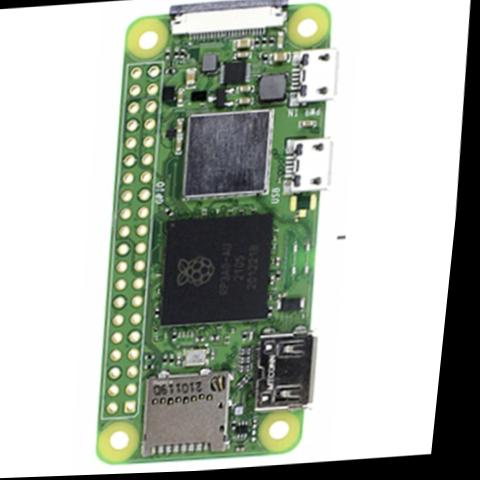Raspberry-Pi-Zero-2-W: (86, 0, 361, 468)
